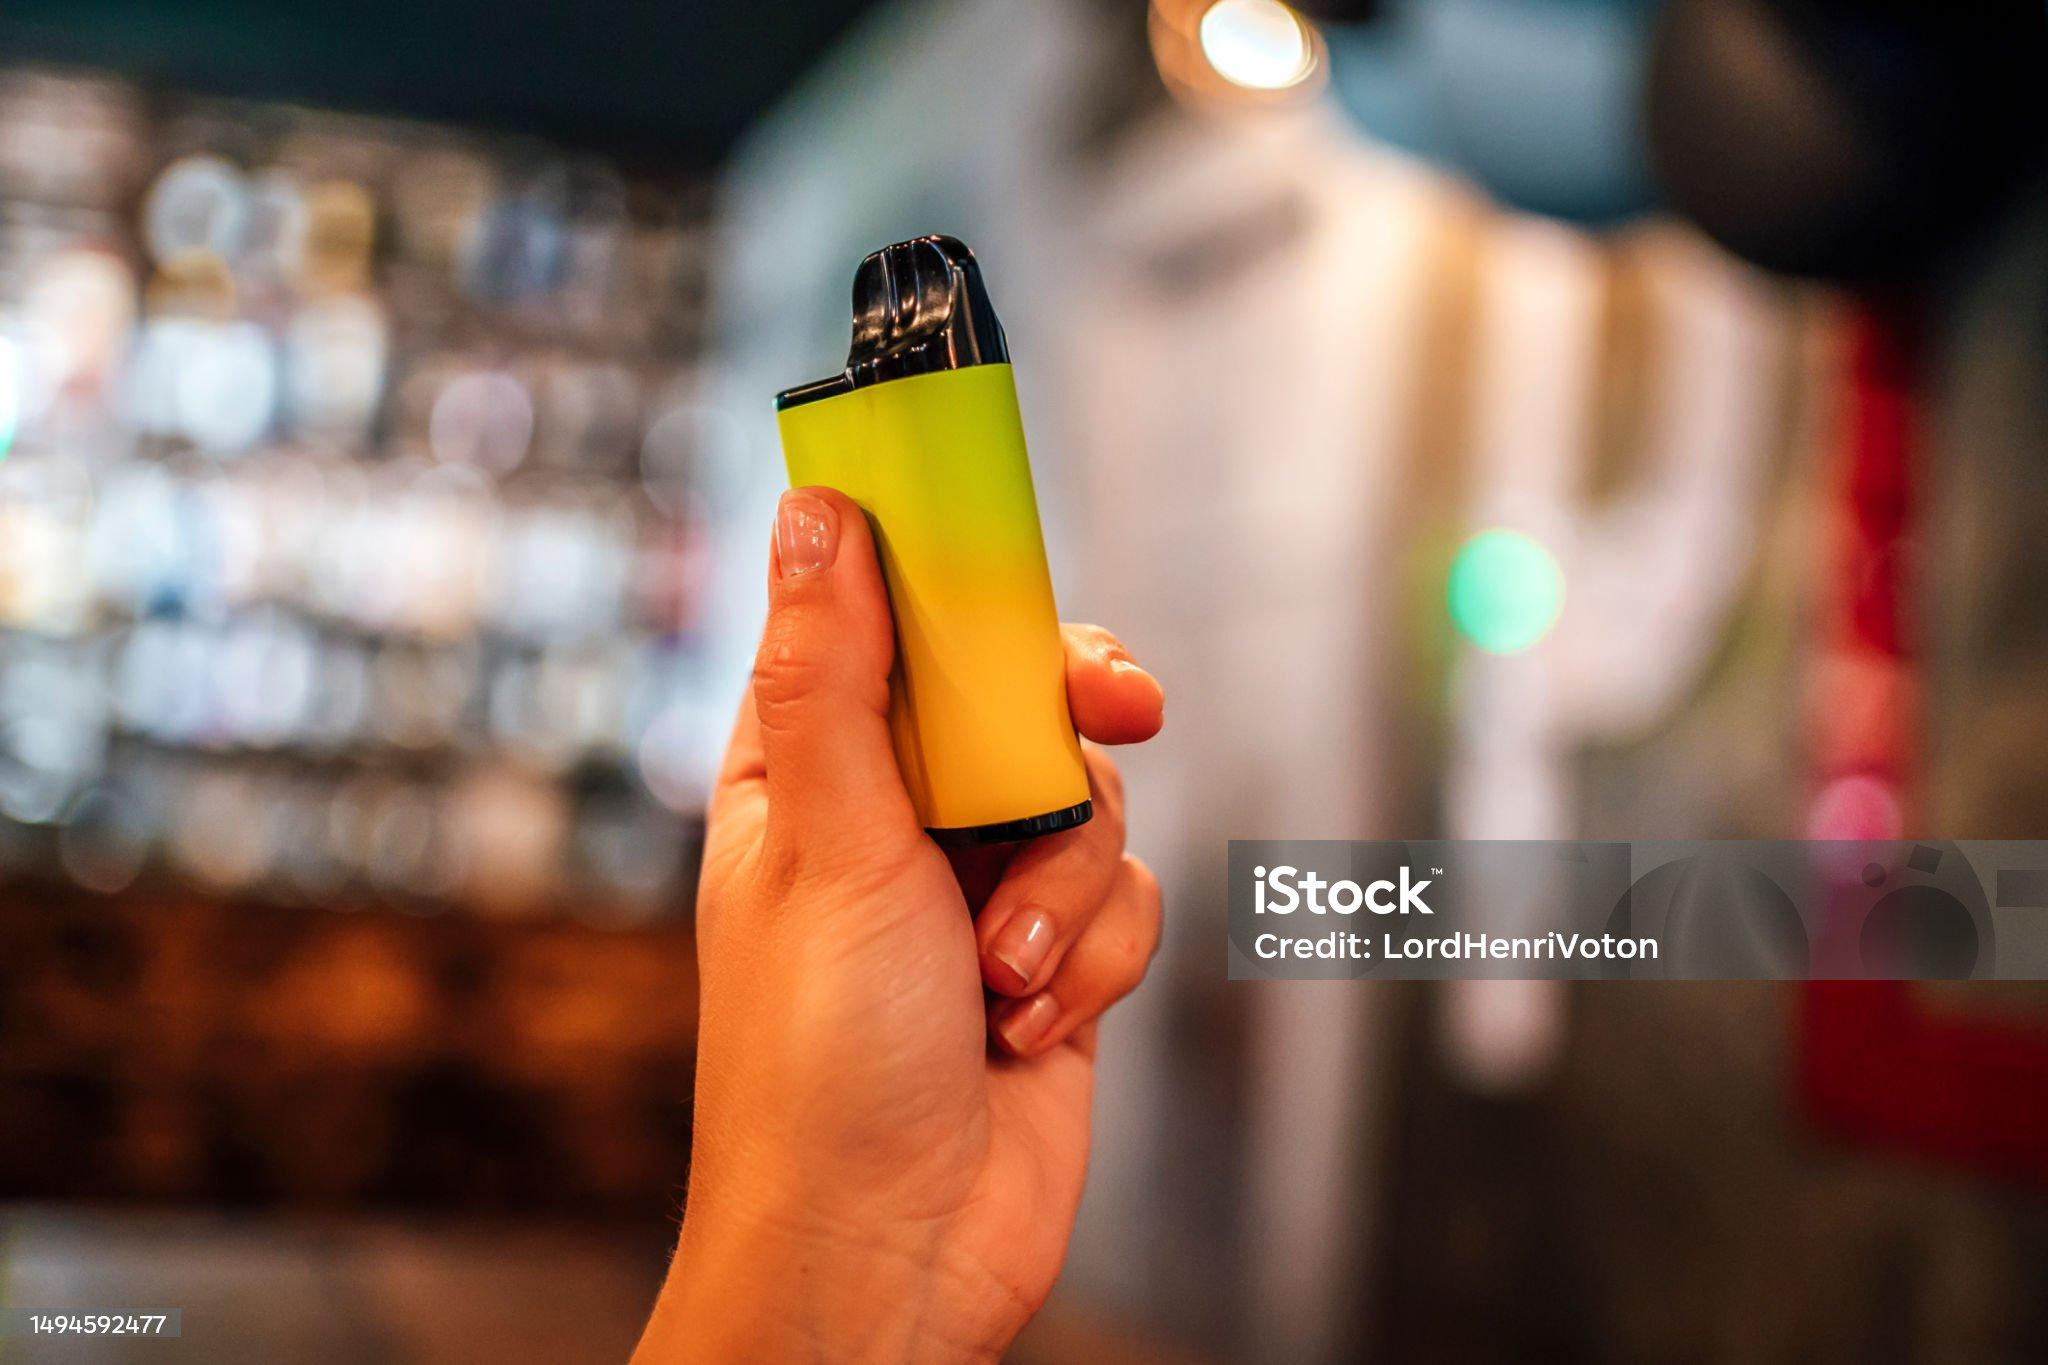Vape: (777, 235, 1089, 849)
